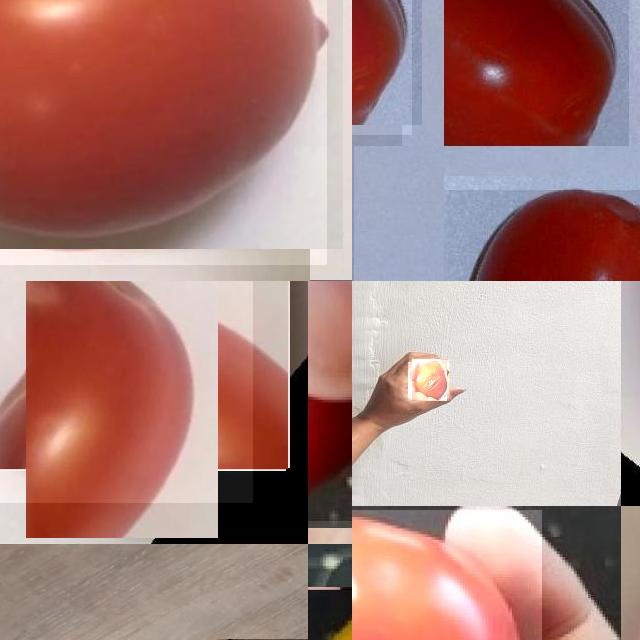0: (352, 510, 541, 640)
1: (409, 360, 449, 400)
Fresh Tomato: (0, 0, 326, 265), (0, 281, 253, 503), (444, 0, 629, 146), (444, 190, 640, 281), (308, 281, 352, 521)
